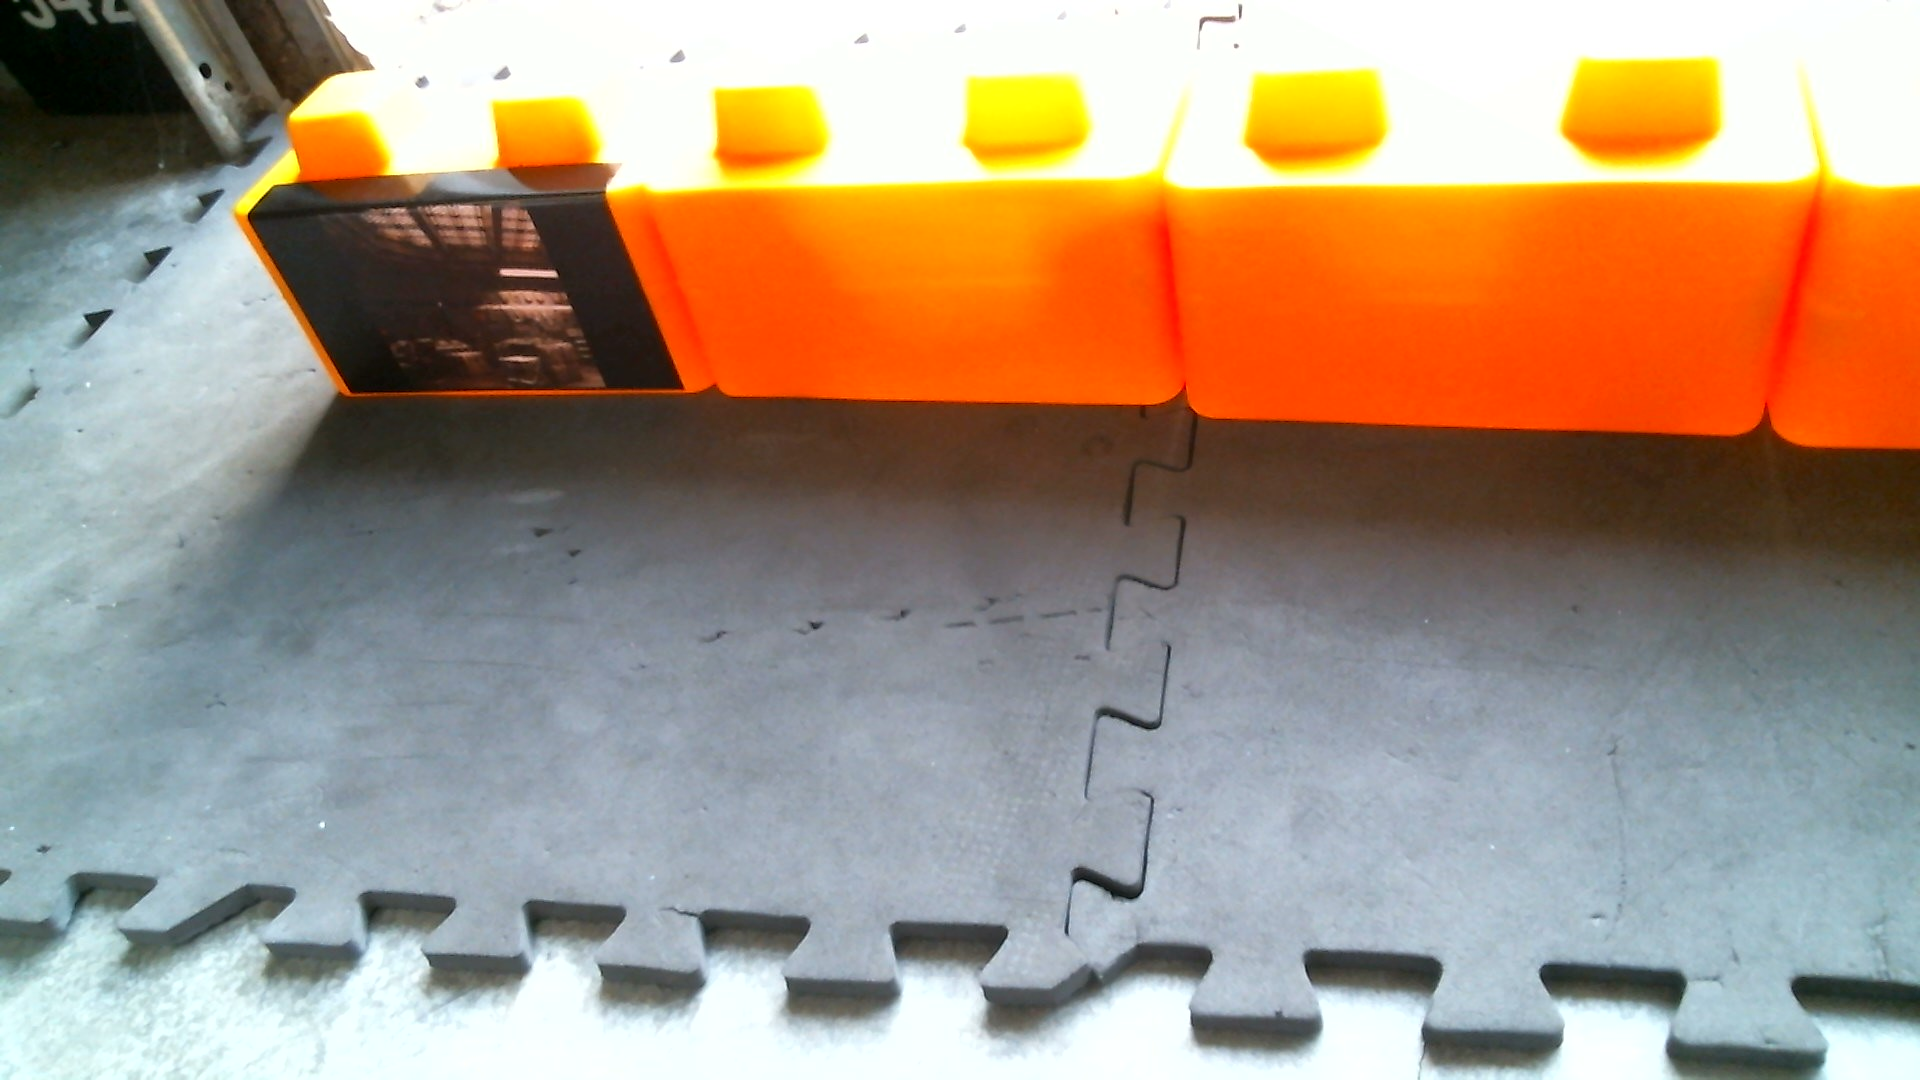left: (225, 22, 1920, 407)
